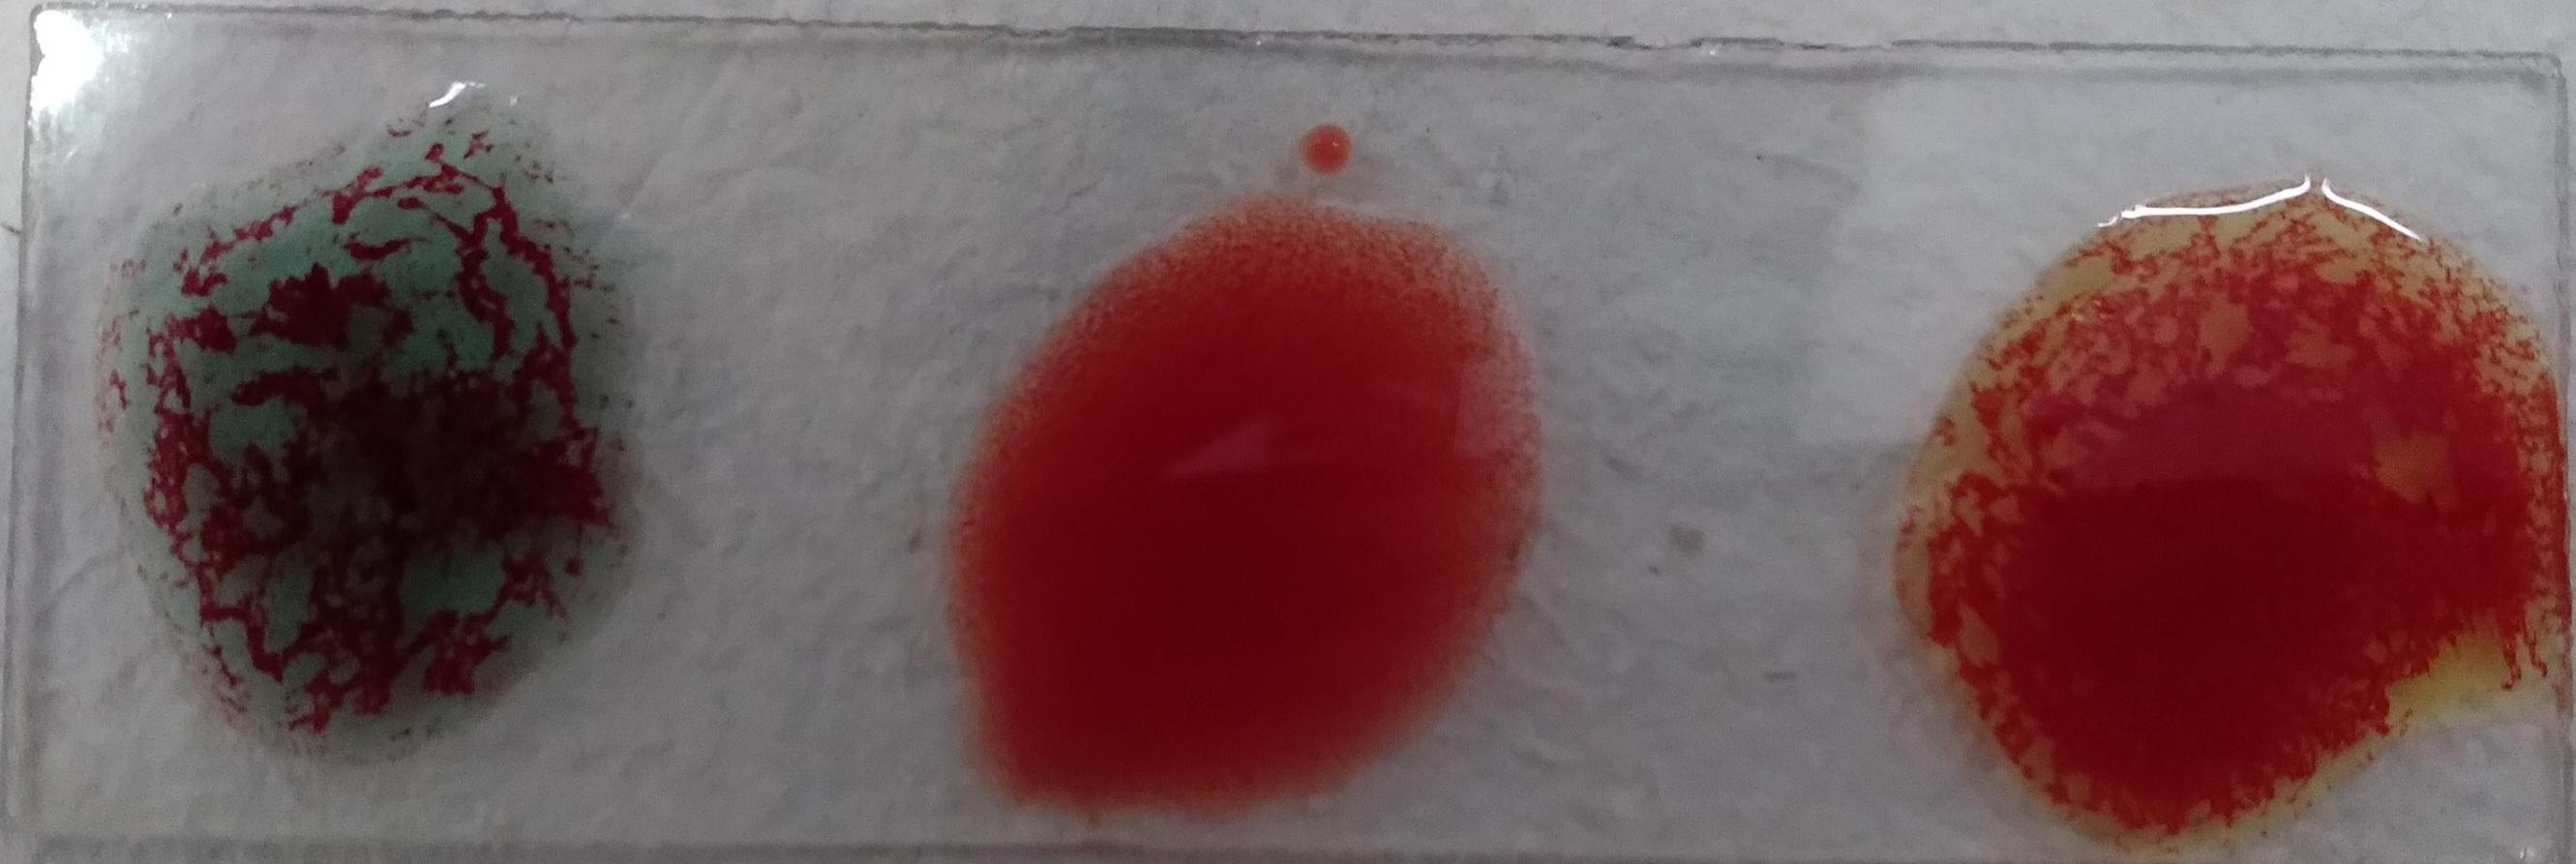A: (1930, 77, 2487, 741)
B: (13, 5, 678, 685)
D: (1043, 30, 1613, 685)
